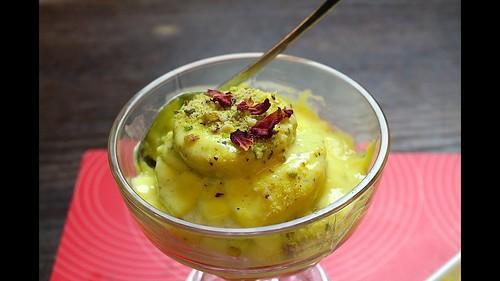RasMalai: (131, 82, 367, 226)
